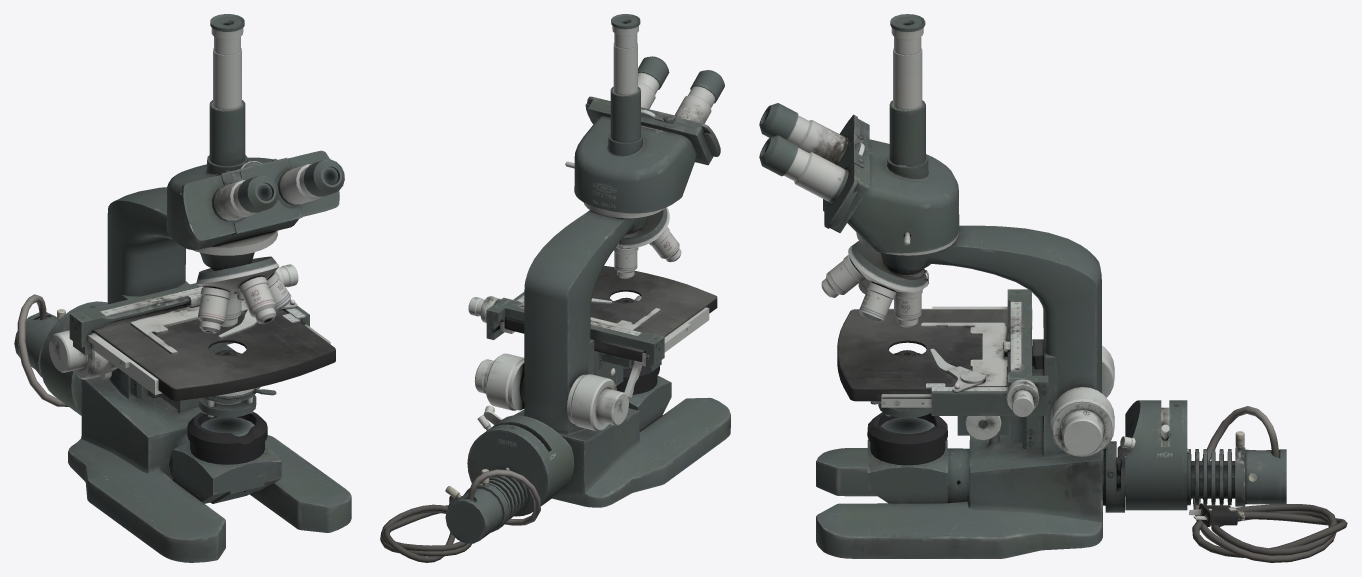
File: industrial_microscope.glb
3 views of the same model, side by side, from view 1: azimuth 30°, elevation 25°; view 2: azimuth 150°, elevation 25°; view 3: azimuth 270°, elevation 25° (orthographic). The views are drawn at different scales.
Parts seen in each view (by area): view 1: industrial_microscope_cable; view 2: industrial_microscope_cable; view 3: industrial_microscope_cable.
Part boxes in pixels (box(x1,y1,x2,y2)): industrial_microscope_cable: box(14, 14, 351, 562); industrial_microscope_cable: box(380, 14, 730, 562); industrial_microscope_cable: box(759, 14, 1347, 562).
Size of the model in its own units: 0.2145 by 0.4617 by 0.4981.
Materials: 1 (1 with a texture image).
